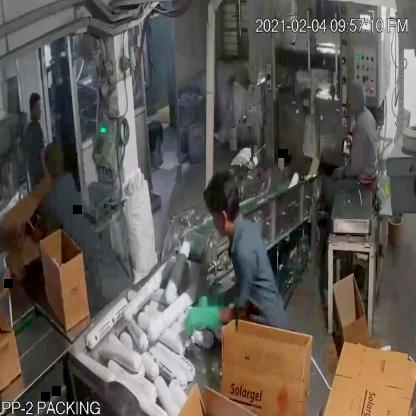glove: (182, 295, 251, 344)
no_glove: (37, 134, 55, 193), (0, 257, 13, 320)
